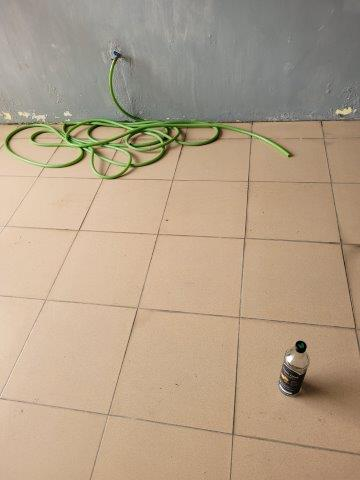botolkaca: (277, 341, 311, 396)
